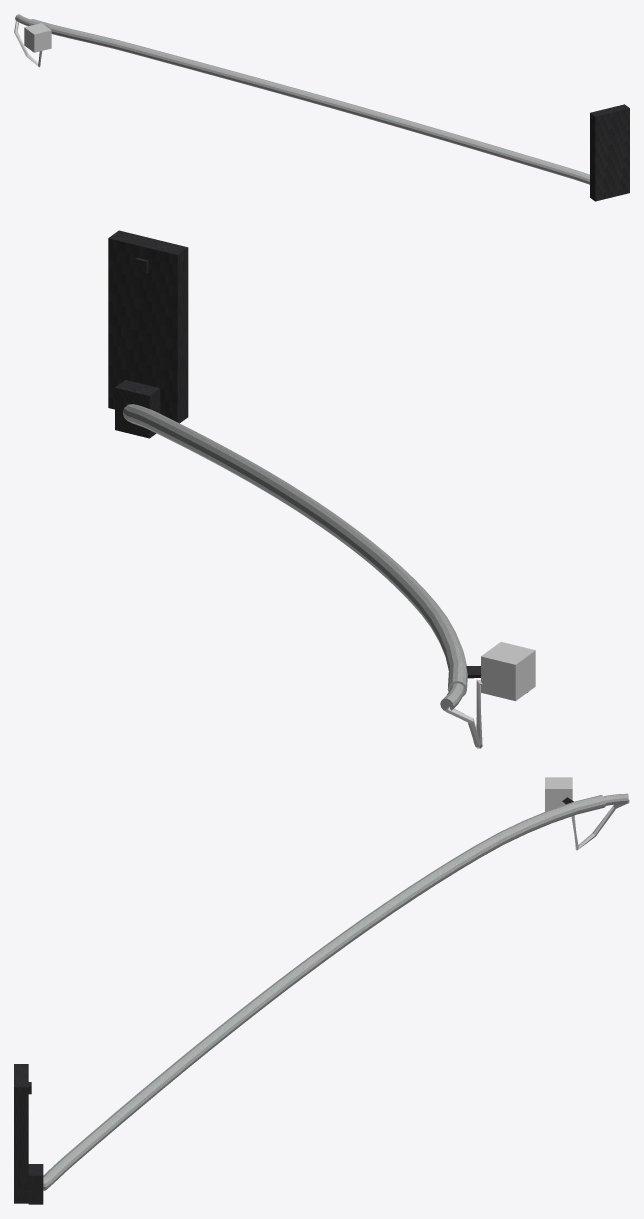
The model's file is arm_5_left_left_wired.obj.
3 views of the same model, one above another, from view 1: azimuth 30°, elevation 25°; view 2: azimuth 150°, elevation 25°; view 3: azimuth 270°, elevation 25° (orthographic). The views are drawn at different scales.
Visible parts, largest first — view 1: pole_light_mount_5_left_left_wired; view 2: pole_light_mount_5_left_left_wired; view 3: pole_light_mount_5_left_left_wired.
Part boxes in pixels (x1=…): pole_light_mount_5_left_left_wired: x1=14, y1=14, x2=629, y2=201; pole_light_mount_5_left_left_wired: x1=108, y1=230, x2=535, y2=748; pole_light_mount_5_left_left_wired: x1=14, y1=777, x2=629, y2=1204.
Size of the model in its own units: 4.34 by 1.24 by 4.2.
